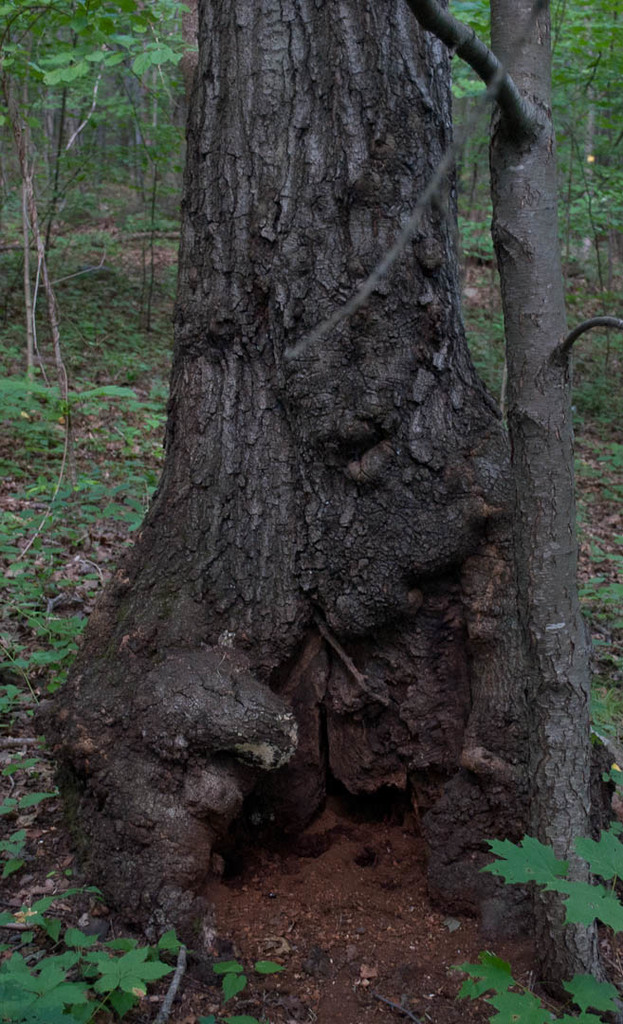Tree: (45, 0, 622, 1024)
